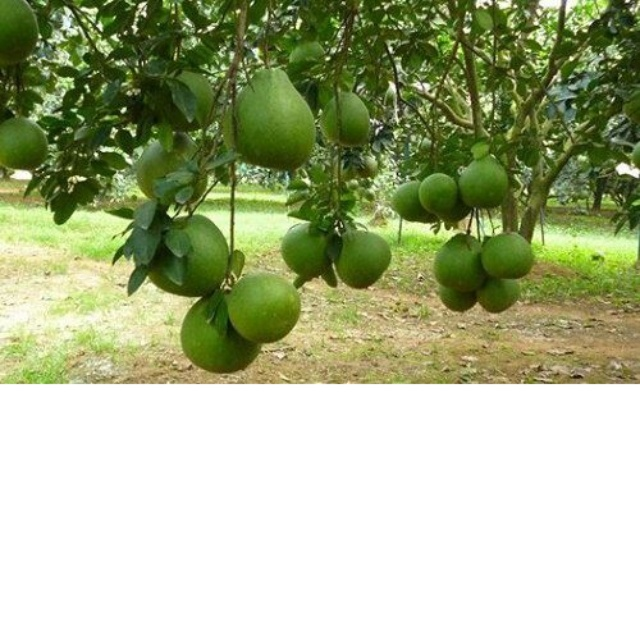buoi: (220, 65, 317, 174), (224, 270, 303, 345), (332, 227, 393, 290), (431, 232, 489, 294), (318, 92, 373, 148), (480, 231, 535, 281)
